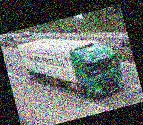car: (21, 31, 32, 38)
